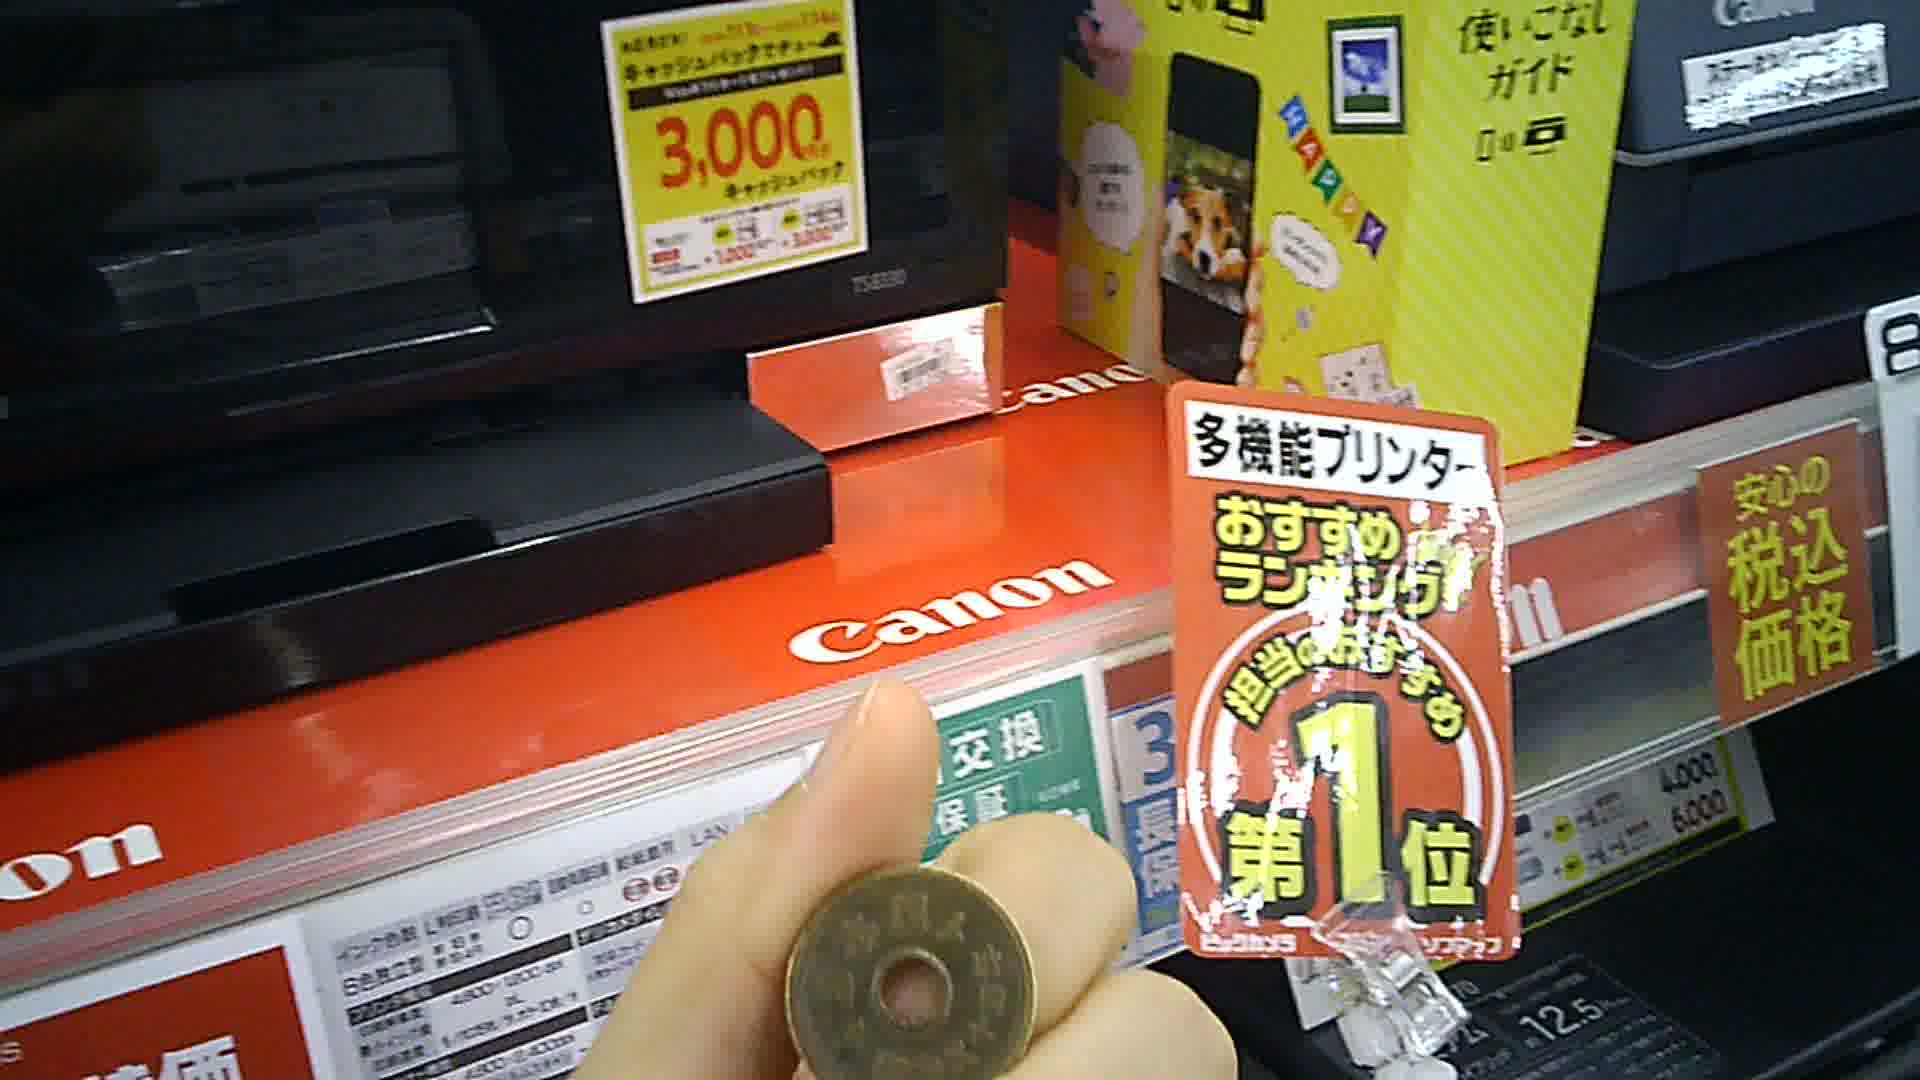5 Yen: (783, 860, 1048, 1079)
